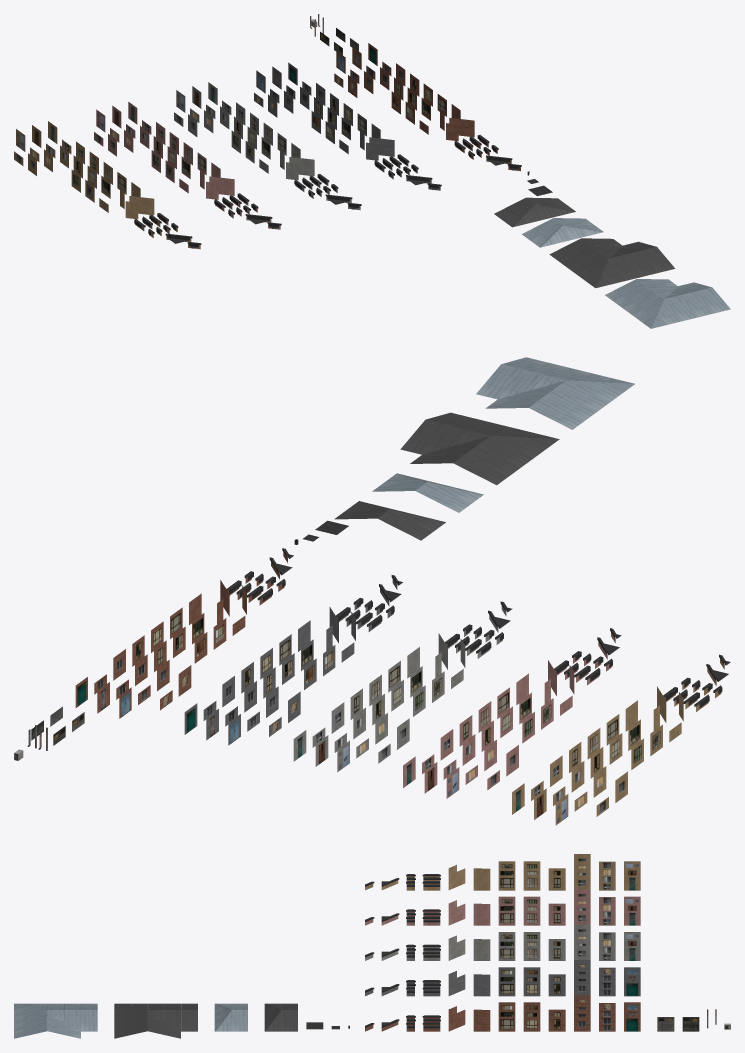
The model's file is modular_building_kit_by_ALEX.fbx.
3 renders of one model, top to bottom at view 1: azimuth 30°, elevation 25°; view 2: azimuth 150°, elevation 25°; view 3: azimuth 270°, elevation 25°, orthographic. The views are drawn at different scales.
Visible parts, largest first — view 1: roof_black_corner, roof_corner, roof_black_end, roof_end, roof_mid, roof_black_mid; view 2: roof_corner, roof_black_corner, roof_black_mid, roof_mid; view 3: roof_corner, roof_black_corner, roof_black_end, roof_end, roof_black_mid, roof_mid.
Part boxes in pixels (x1,y1,x2,y2): roof_black_corner: (549,238,675,288); roof_corner: (605,279,730,328); roof_black_end: (503,204,575,227); roof_end: (531,224,603,247); roof_mid: (522,218,594,240); roof_black_mid: (494,197,566,220); roof_corner: (476,357,634,429); roof_black_corner: (400,412,559,485); roof_black_mid: (334,509,433,540); roof_mid: (372,481,471,512); roof_corner: (14,1003,97,1038); roof_black_corner: (114,1003,197,1038); roof_black_end: (264,1003,281,1031); roof_end: (214,1003,231,1031); roof_black_mid: (281,1003,297,1031); roof_mid: (231,1003,247,1031).
Bounding box in the file's own units: 4800 × 200 × 8580.
